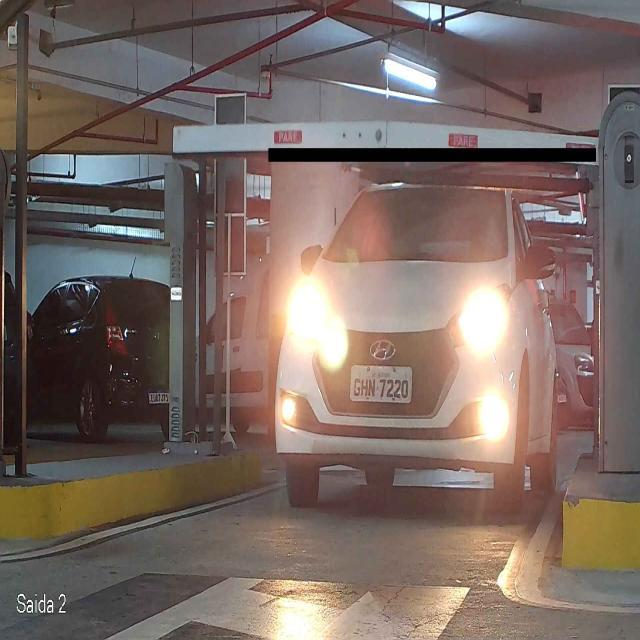old_plate: (348, 364, 414, 404)
